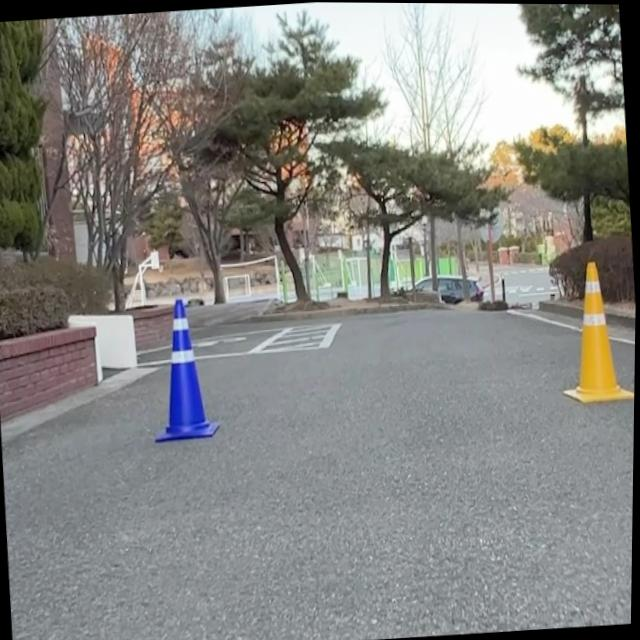b_rub: (156, 298, 220, 441)
y_rub: (567, 260, 635, 402)
